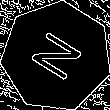N_SE: (24, 26, 89, 87)
